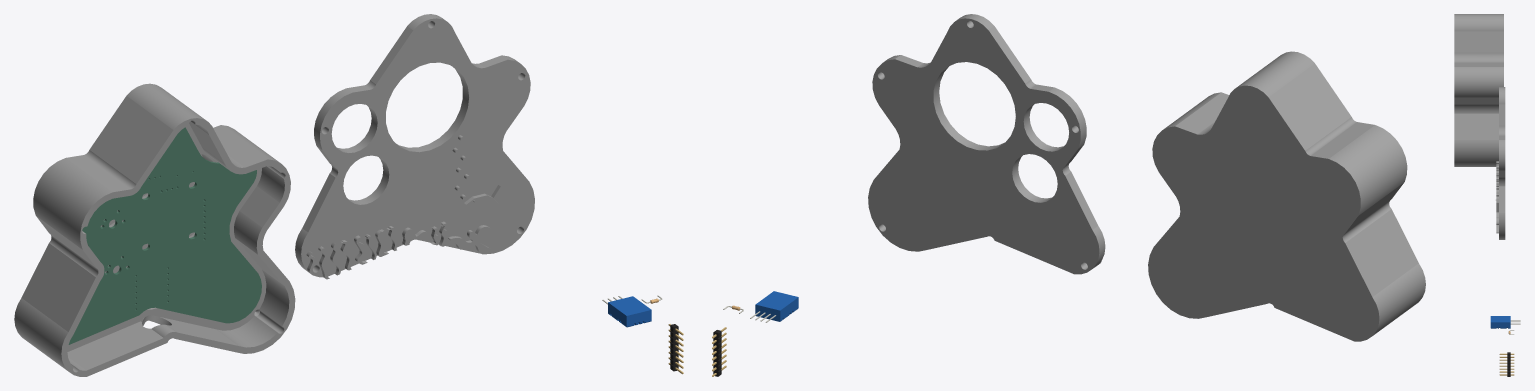
Rendered from starboy Kicad.obj.
3 renders of one model, left to right at view 1: azimuth 30°, elevation 25°; view 2: azimuth 150°, elevation 25°; view 3: azimuth 270°, elevation 25°, orthographic. The views are drawn at different scales.
Parts seen in each view (by area): view 1: Body2, Body1:4, Body1:3, Body1, Body1:1; view 2: Body2, Body1:4, Body1; view 3: Body2, Body1:4, Body1, Body1:1.
Part boxes in pixels (box(x1,y1,x2,y2)): Body2: box(14, 83, 295, 376); Body1:4: box(295, 14, 534, 279); Body1:3: box(68, 127, 261, 344); Body1: box(602, 296, 651, 327); Body1:1: box(668, 324, 683, 374); Body2: box(1148, 51, 1425, 341); Body1:4: box(868, 14, 1105, 274); Body1: box(750, 291, 798, 322); Body2: box(1454, 14, 1503, 166); Body1:4: box(1496, 87, 1505, 239); Body1: box(1490, 316, 1520, 328); Body1:1: box(1499, 352, 1514, 376).
Bounding box in the file's own units: 31.96 × 19.2 × 5.21.
